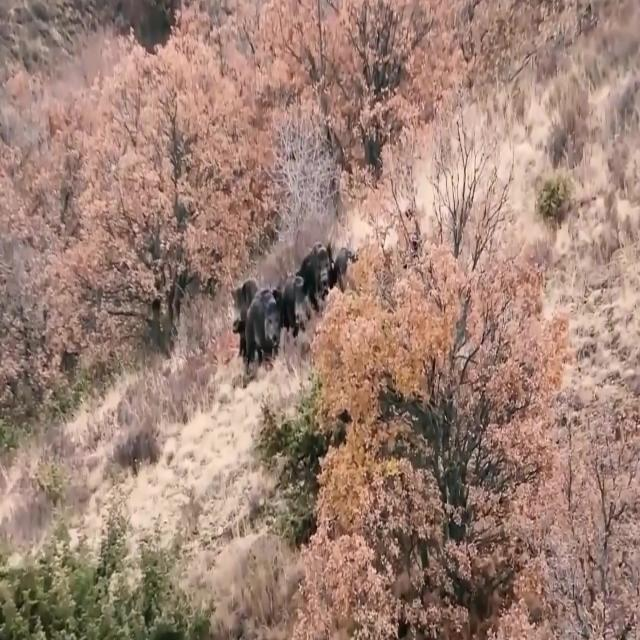pig: (237, 270, 290, 390), (278, 267, 313, 356), (305, 228, 339, 316)
